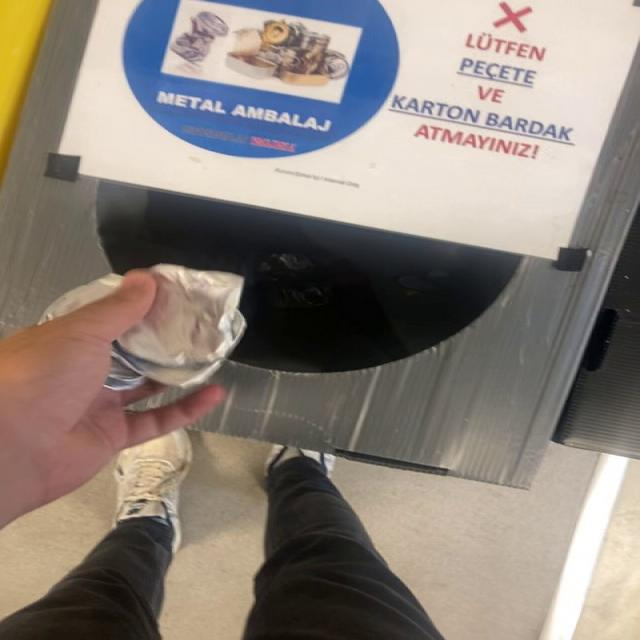bin: (3, 0, 640, 488)
metal: (107, 264, 245, 390), (41, 274, 123, 324)
